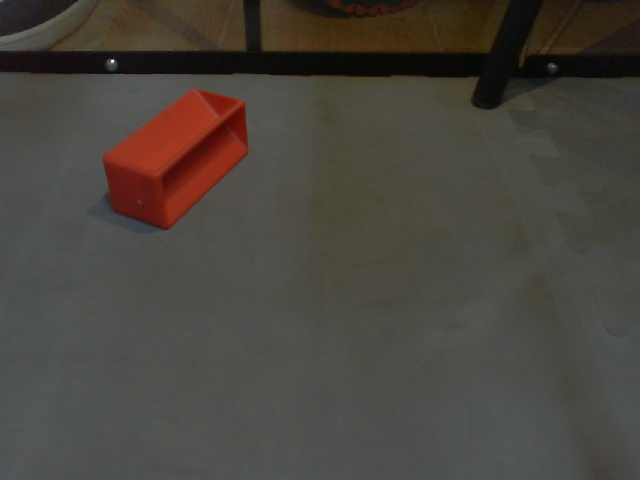RedSample: (100, 86, 252, 230)
